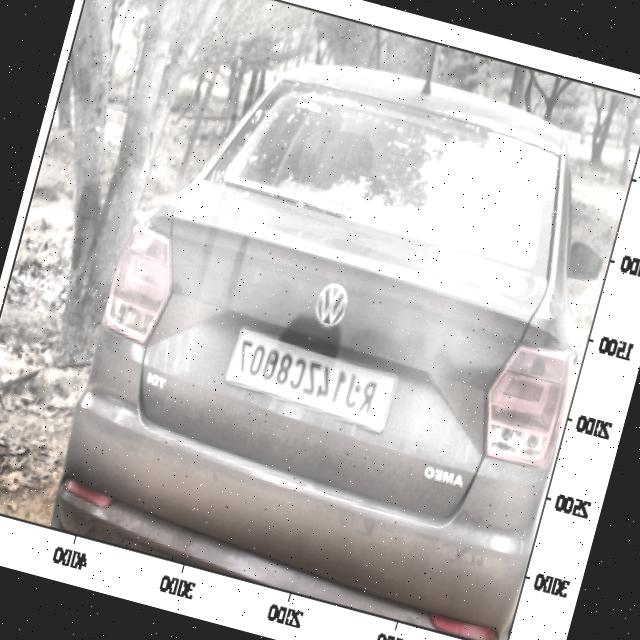license_plate: (226, 328, 392, 426)
